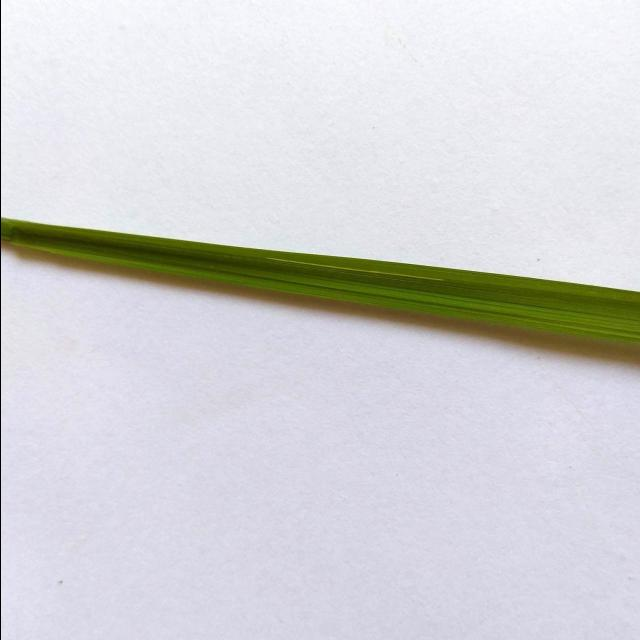healthy: (0, 170, 640, 416)
